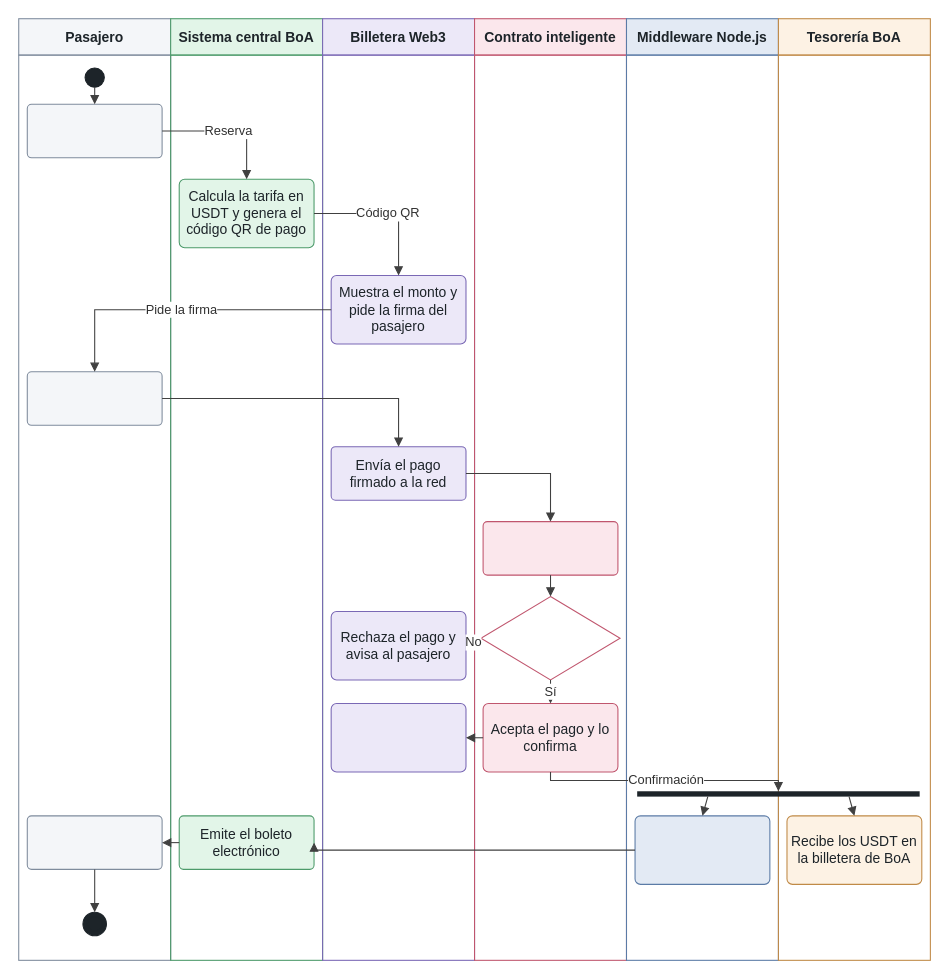
Image size: 949x979. Some labels were removed from this diagram. The centre of each missing label's shape, as x and y in pixels:
Elige el vuelo y registra sus datos: (x=94, y=130)
Muestra el pago confirmado: (x=398, y=737)
Recibe el pago: (x=550, y=548)
Recibe su boleto: (x=94, y=842)
Registra el pago y avisa al sistema central: (x=702, y=849)
Revisa el monto y firma el pago: (x=94, y=398)
¿Monto correcto y reserva sin pagar?: (x=550, y=637)
